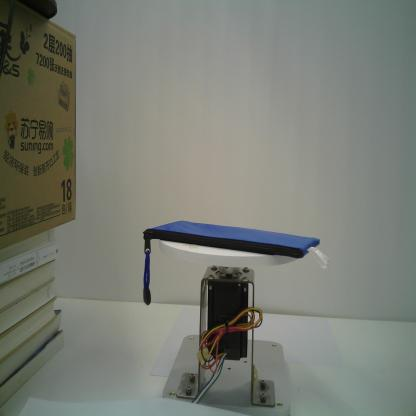Stationery: (142, 220, 320, 306)
